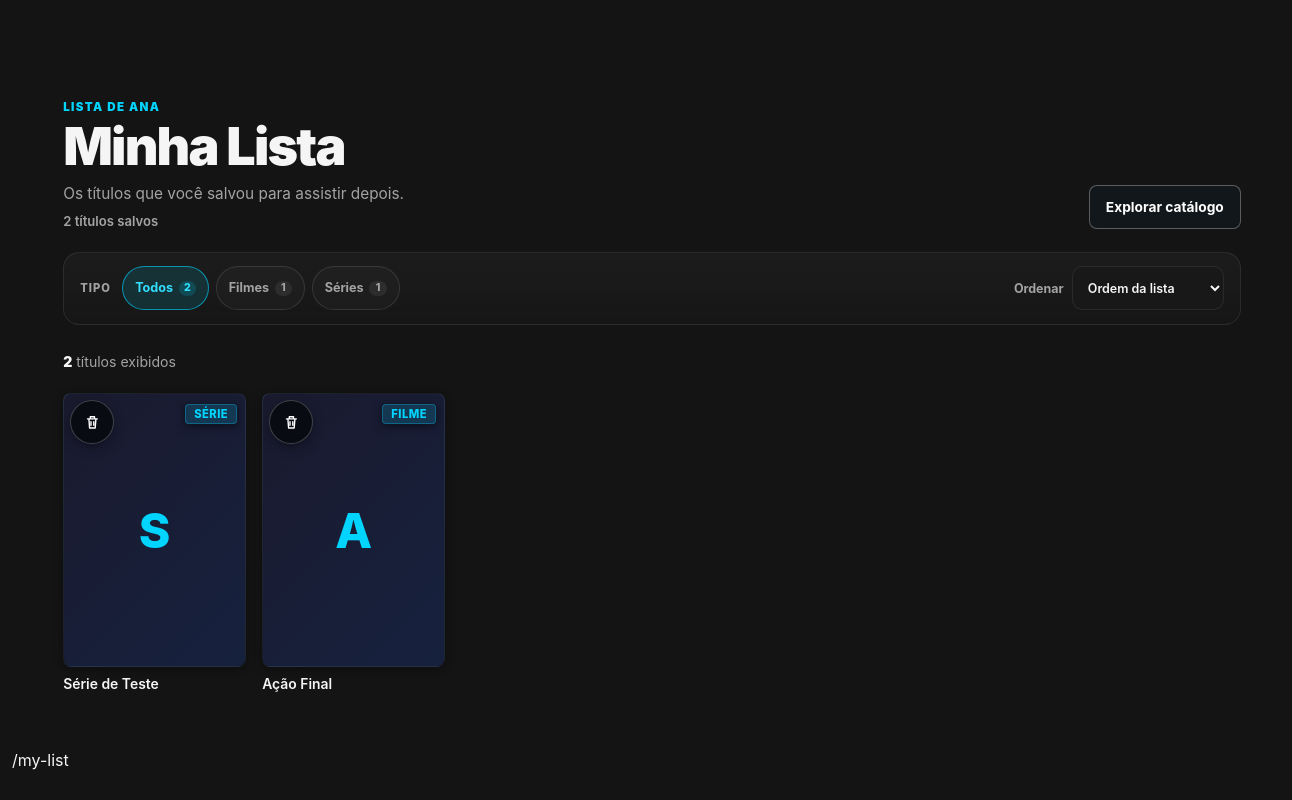
Test case: removes a saved title with an optimistic update and confirms the action
Check: the link "A Filme Ação Final" is shown, box [262, 393, 445, 694]
Step 1. Click the button named "Remover Ação Final da Minha Lista" → point(291, 422), box [269, 400, 313, 444]
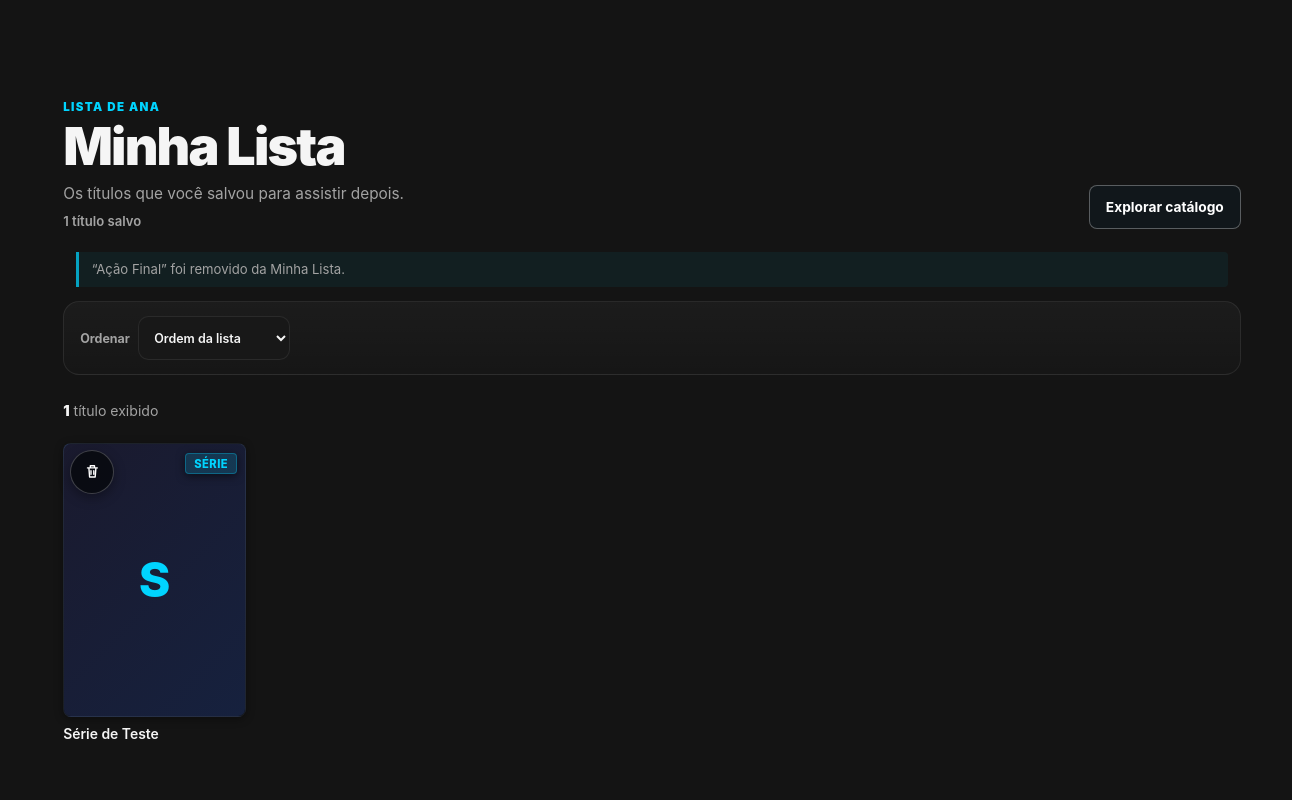
Check: the text "“Ação Final” foi removido da Minha Lista." is shown, box [76, 252, 1228, 287]
Check: the text "1 título salvo" is shown, box [63, 214, 141, 230]
